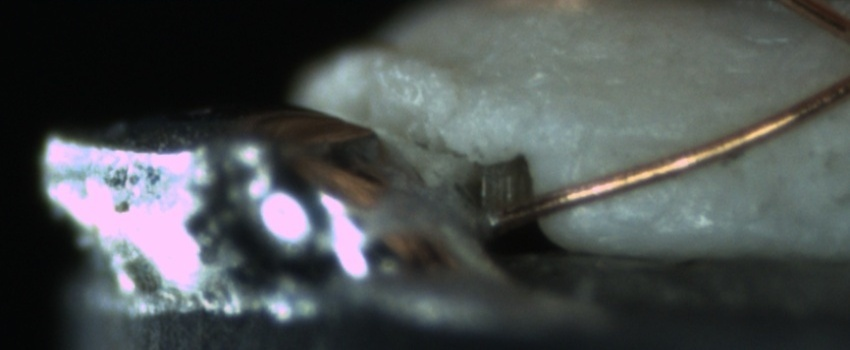DL: (574, 111, 702, 169)
